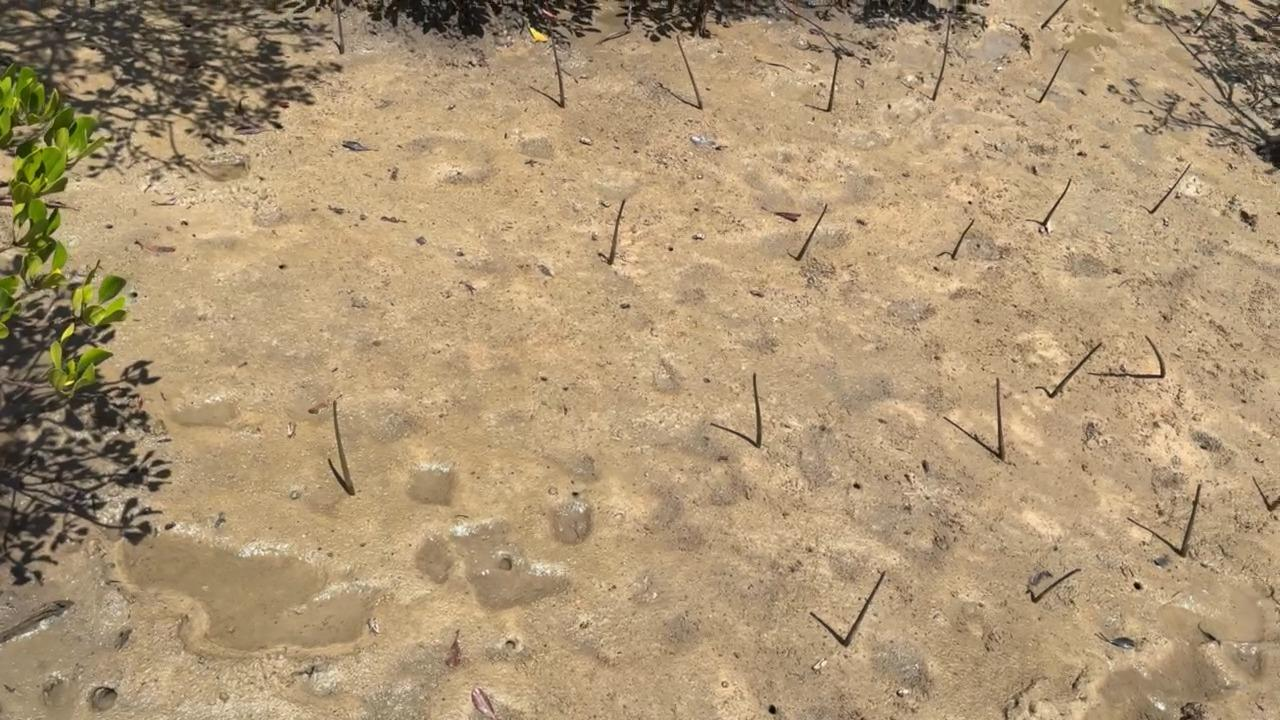Tree: (843, 572, 885, 647), (1050, 342, 1104, 397), (332, 400, 355, 495), (1150, 165, 1190, 214), (795, 204, 828, 262), (677, 35, 702, 109), (932, 18, 952, 102), (1034, 569, 1084, 602), (1038, 50, 1069, 103), (1041, 178, 1071, 225), (1181, 486, 1200, 557), (550, 39, 566, 108), (609, 202, 626, 265), (949, 220, 975, 259), (1145, 336, 1168, 379), (995, 378, 1007, 459), (752, 373, 763, 447), (1196, 0, 1219, 33), (1040, 0, 1067, 28), (828, 57, 840, 112), (1253, 475, 1270, 510), (335, 1, 345, 55)
